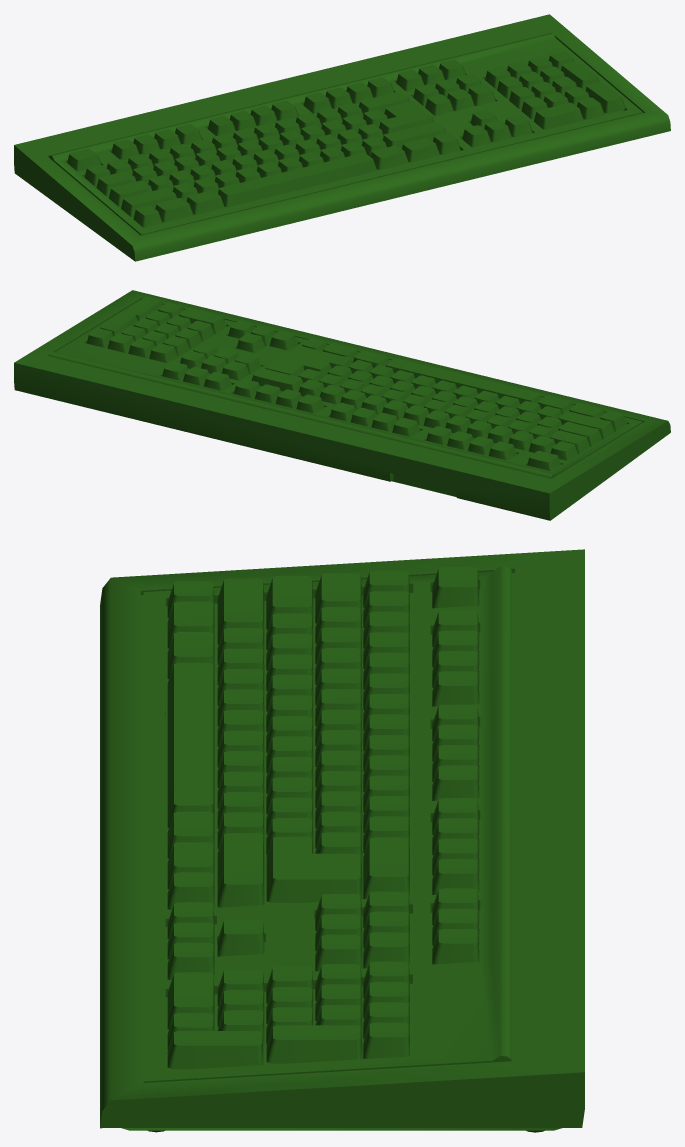
The model's file is ST_Old_PC_Keyboard.fbx.
The picture shows the model from 3 angles, top to bottom: view 1: azimuth 30°, elevation 25°; view 2: azimuth 150°, elevation 25°; view 3: azimuth 270°, elevation 25°; orthographic projection. The views are drawn at different scales.
Parts seen in each view (by area): view 1: Old_PC_Keyboard; view 2: Old_PC_Keyboard; view 3: Old_PC_Keyboard.
Part boxes in pixels (x1=…): Old_PC_Keyboard: x1=14, y1=14, x2=670, y2=261; Old_PC_Keyboard: x1=14, y1=290, x2=670, y2=520; Old_PC_Keyboard: x1=100, y1=549, x2=584, y2=1132.
Size of the model in its own units: 42.73 by 3.08 by 16.76.
